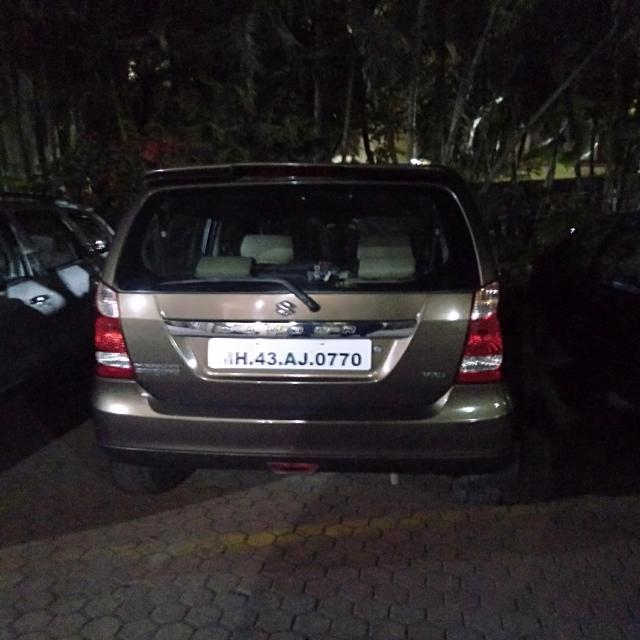Number-Plate: (214, 343, 370, 369)
